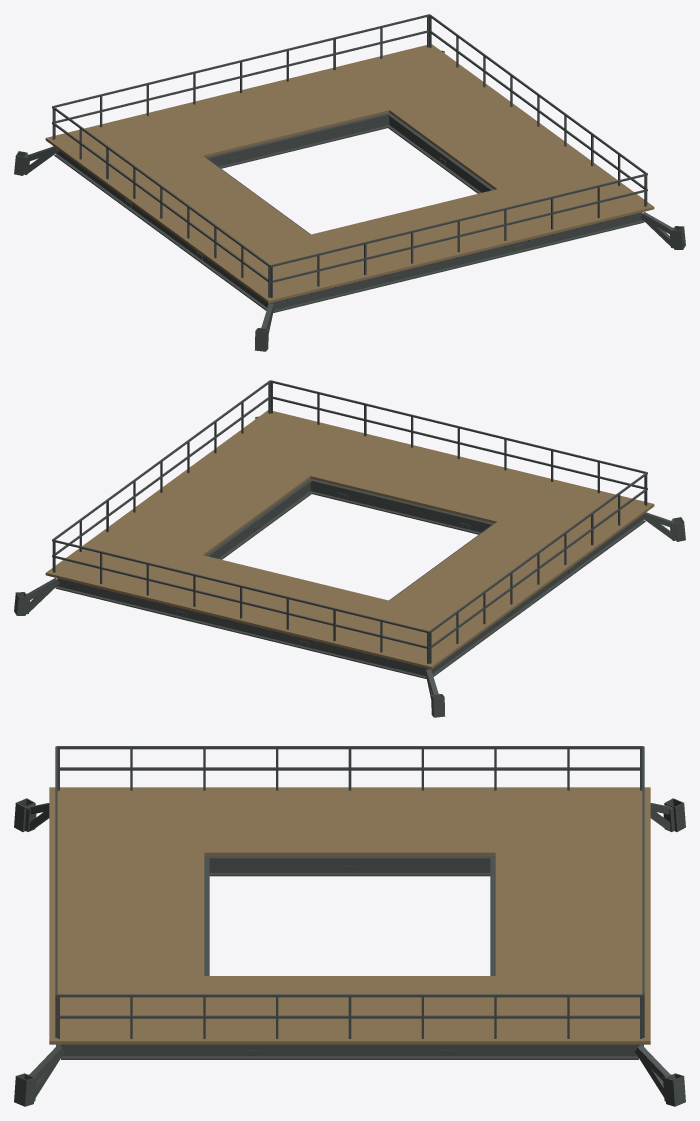
Rendered from platform-spliced.glb.
3 views of the same model, one above another, from view 1: azimuth 30°, elevation 25°; view 2: azimuth 150°, elevation 25°; view 3: azimuth 270°, elevation 25° (orthographic). The views are drawn at different scales.
Visible parts, largest first — view 1: x-girder--1-3.1-segment-1.001, x-girder-1-6.15-segment-2.001, x-girder-1-6.15-segment-0.001, x-girder-1-6.15-segment-1.001, deck-z-1-board-14-2.001, z-girder-1-3.1-segment-0.001, deck-z--1-board-14-1.001, deck-z-1-board-14-0.001, deck-z-1-board-14-1.001, z-girder-1-3.1-segment-1.001, deck-z--1-board-14-2.001, z-girder--1-6.15-segment-0.001 (+66 smaller); view 2: x-girder-1-3.1-segment-1.001, x-girder--1-6.15-segment-2.001, x-girder--1-6.15-segment-0.001, x-girder--1-6.15-segment-1.001, deck-z--1-board-00-2.001, z-girder-1-3.1-segment-1.001, deck-z-1-board-00-1.001, deck-z--1-board-00-0.001, deck-z--1-board-00-1.001, z-girder-1-3.1-segment-0.001, deck-z-1-board-00-2.001, z-girder--1-6.15-segment-2.001 (+66 smaller); view 3: z-girder-1-6.15-segment-0.001, z-girder-1-6.15-segment-2.001, z-girder-1-6.15-segment-1.001, z-girder--1-3.1-segment-0.001, z-girder--1-3.1-segment-1.001, deck-x--1-board-14-0.001, deck-x--1-board-14-1.001, deck-x-1-board-14-0.001, deck-x-1-board-14-1.001, deck-z-1-board-02-2.001, deck-z-1-board-05-2.001, deck-z-1-board-08-2.001 (+153 smaller).
Boxes of the visible parts, x1,y1,x2,y2 form: x-girder--1-3.1-segment-1.001: [234, 120, 359, 164]; x-girder-1-6.15-segment-2.001: [519, 212, 644, 252]; x-girder-1-6.15-segment-0.001: [271, 272, 396, 312]; x-girder-1-6.15-segment-1.001: [395, 242, 520, 282]; deck-z-1-board-14-2.001: [506, 204, 654, 244]; z-girder-1-3.1-segment-0.001: [387, 113, 442, 165]; deck-z--1-board-14-1.001: [220, 118, 344, 152]; deck-z-1-board-14-0.001: [264, 269, 388, 303]; deck-z-1-board-14-1.001: [385, 240, 509, 273]; z-girder-1-3.1-segment-1.001: [440, 152, 494, 193]; deck-z--1-board-14-2.001: [341, 83, 488, 123]; z-girder--1-6.15-segment-0.001: [54, 149, 127, 207]; x-girder-1-3.1-segment-1.001: [340, 486, 465, 530]; x-girder--1-6.15-segment-2.001: [55, 578, 180, 618]; x-girder--1-6.15-segment-0.001: [303, 638, 428, 678]; x-girder--1-6.15-segment-1.001: [179, 608, 304, 648]; deck-z--1-board-00-2.001: [45, 570, 193, 610]; z-girder-1-3.1-segment-1.001: [257, 479, 311, 531]; deck-z-1-board-00-1.001: [355, 484, 479, 518]; deck-z--1-board-00-0.001: [311, 635, 435, 669]; deck-z--1-board-00-1.001: [190, 606, 314, 639]; z-girder-1-3.1-segment-0.001: [205, 518, 259, 559]; deck-z-1-board-00-2.001: [211, 449, 358, 489]; z-girder--1-6.15-segment-2.001: [572, 515, 645, 573]; z-girder-1-6.15-segment-0.001: [446, 1044, 638, 1059]; z-girder-1-6.15-segment-2.001: [61, 1044, 253, 1059]; z-girder-1-6.15-segment-1.001: [253, 1044, 446, 1059]; z-girder--1-3.1-segment-0.001: [350, 856, 495, 876]; z-girder--1-3.1-segment-1.001: [204, 856, 349, 876]; deck-x--1-board-14-0.001: [350, 848, 495, 856]; deck-x--1-board-14-1.001: [204, 848, 349, 856]; deck-x-1-board-14-0.001: [350, 1037, 495, 1044]; deck-x-1-board-14-1.001: [204, 1037, 349, 1044]; deck-z-1-board-02-2.001: [173, 946, 183, 1044]; deck-z-1-board-05-2.001: [142, 946, 152, 1044]; deck-z-1-board-08-2.001: [111, 946, 121, 1044].
Bounding box in the file's own units: 14.31 × 2.24 × 14.31.
